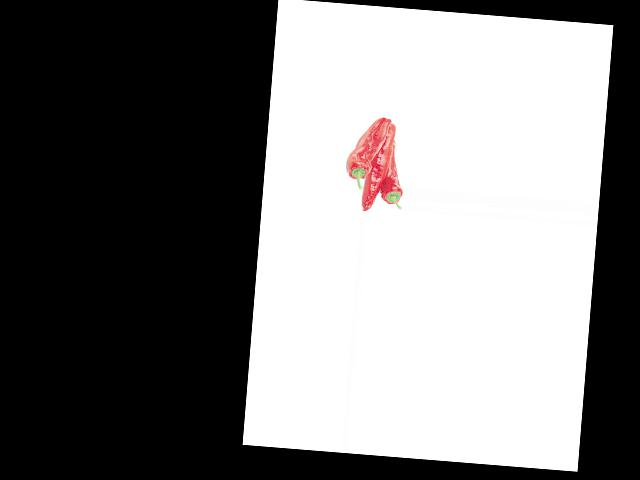bell_pepper: (342, 113, 382, 192)
